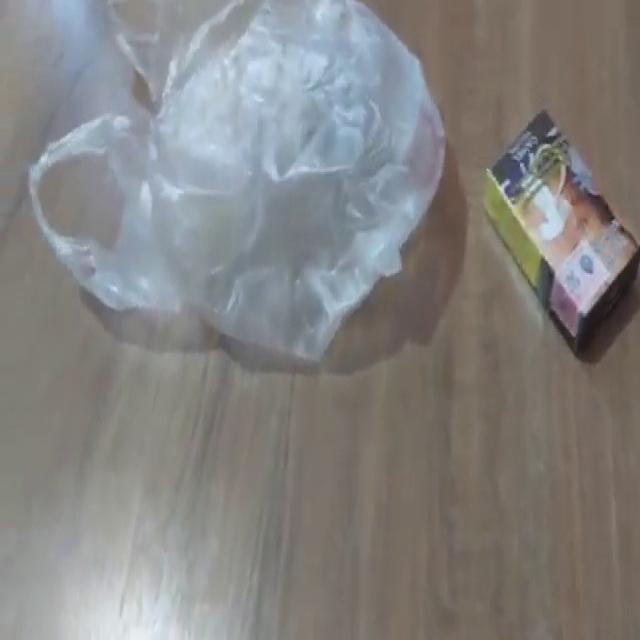Anorganik: (1, 1, 451, 368)
Organik: (480, 99, 640, 362)
